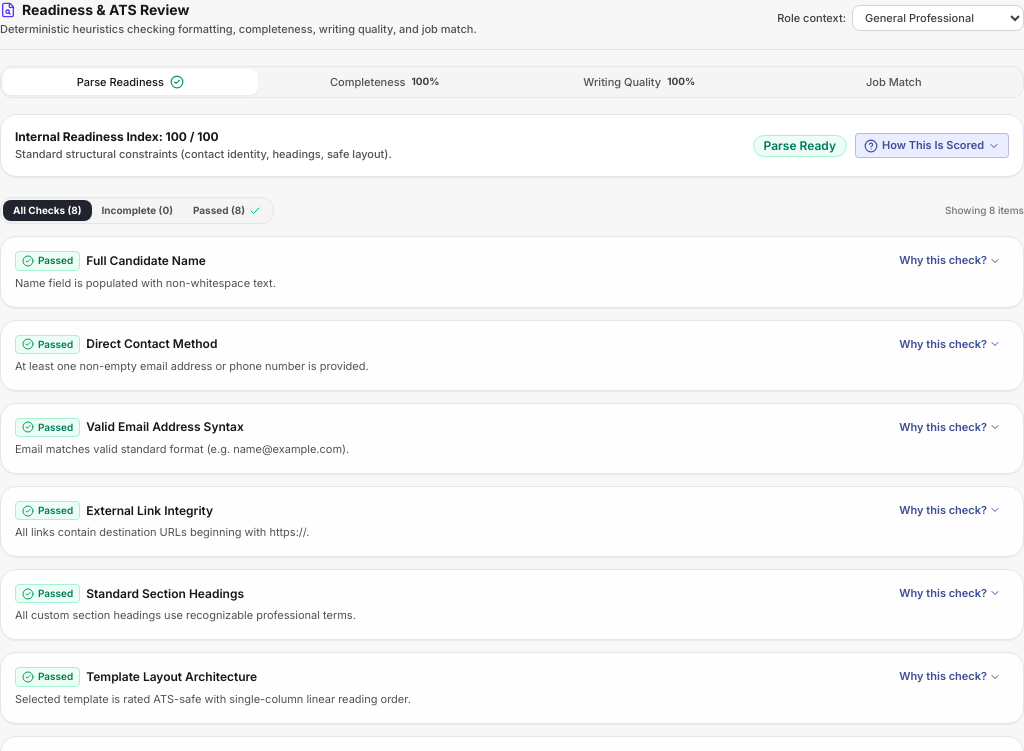
it: ATS Readiness Panel Component (RS-103) › shows honest empty state for Job Match when no description is provided
# Click on Job Match tab
Click the tab "Job Match". click: (894, 82)
box: [766,69,1021,95]
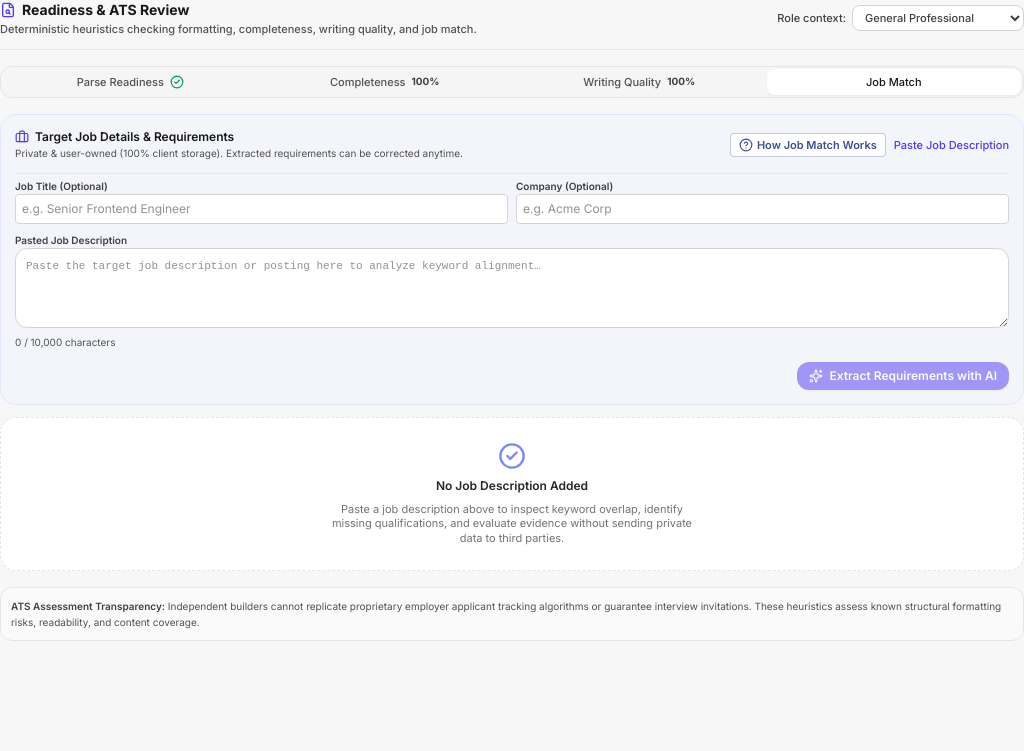
Check: the heading "No Job Description Added" is shown, box [436,478,588,493]
Check: the text "Paste a job description above to inspect keyword overlap" is shown, box [332,502,692,545]
